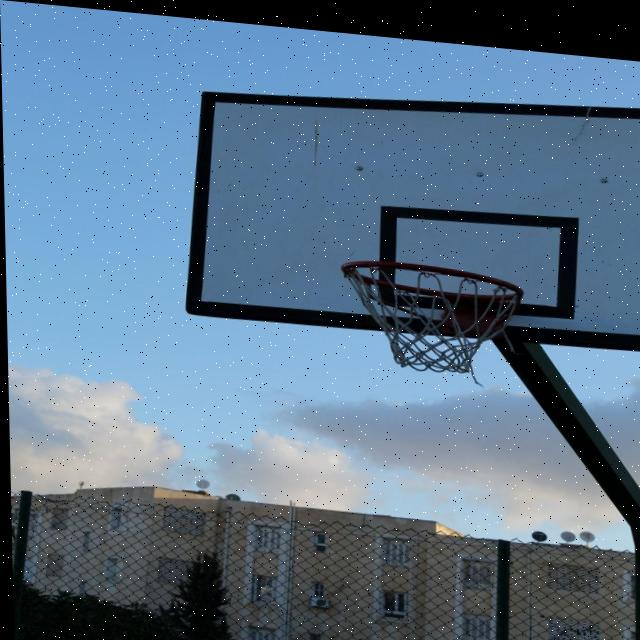hoop: (309, 233, 569, 416)
